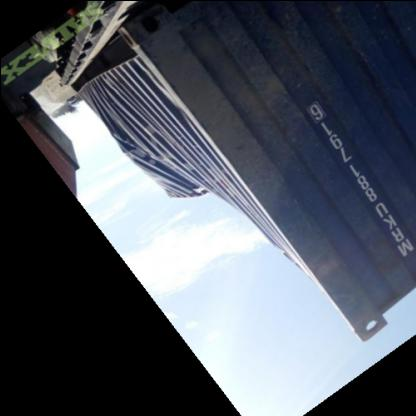Damage: (108, 109, 208, 200)
